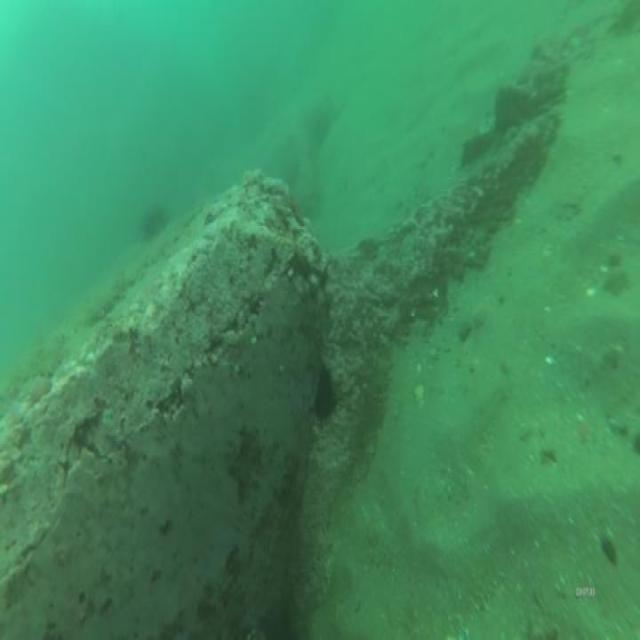echinus: (311, 354, 342, 433), (142, 199, 172, 242)
